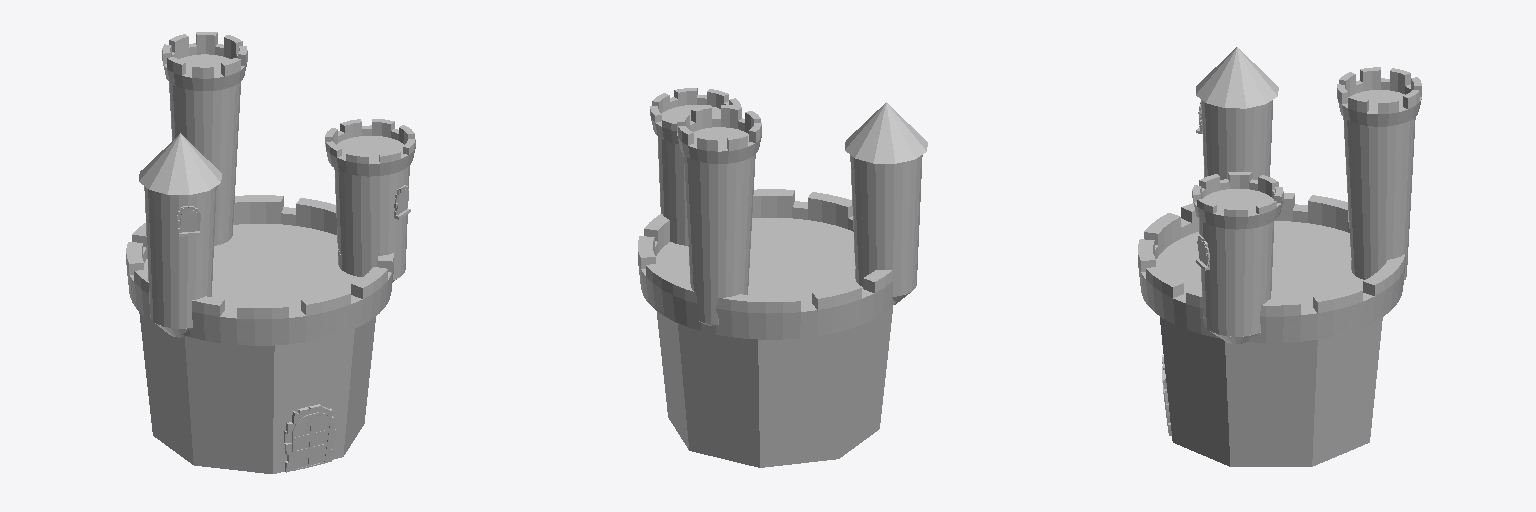
File: cstl.obj
3 views of the same model, side by side, from view 1: azimuth 30°, elevation 25°; view 2: azimuth 150°, elevation 25°; view 3: azimuth 270°, elevation 25° (orthographic).
Parts seen in each view (by area): view 1: cstl; view 2: cstl; view 3: cstl.
Boxes of the visible parts, box(x1,y1,x2,y2) form: cstl: box(126, 32, 415, 473); cstl: box(638, 88, 927, 467); cstl: box(1138, 47, 1421, 466).
Bounding box in the file's own units: 2.52 × 3.08 × 2.33.